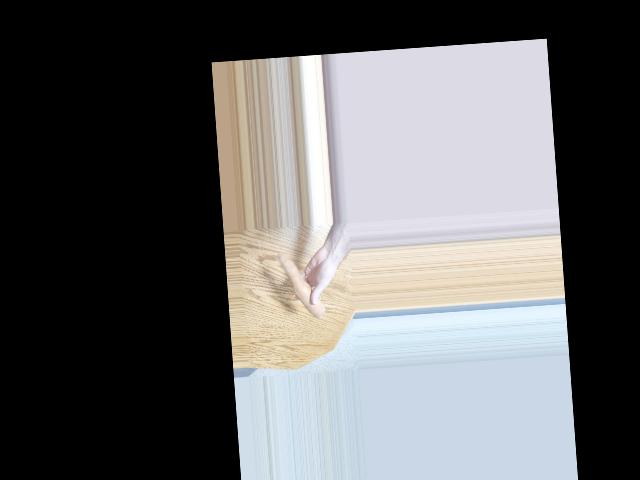sweet_potato: (282, 251, 323, 328)
